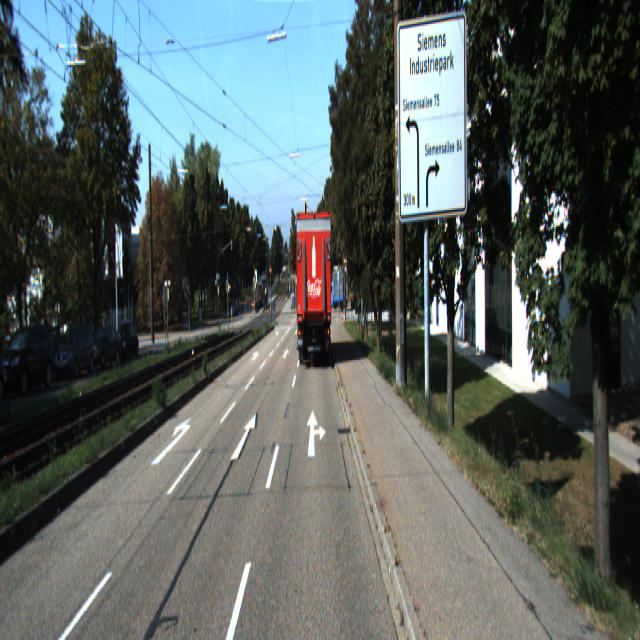Car: (294, 212, 334, 374), (0, 323, 56, 392), (54, 322, 96, 383), (88, 324, 123, 370), (110, 320, 139, 364)
